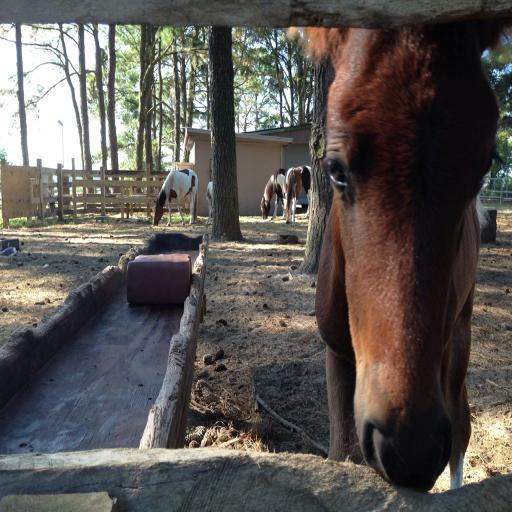horse: (280, 22, 512, 494), (152, 169, 199, 226), (260, 170, 286, 220), (283, 166, 302, 226), (296, 164, 312, 217), (202, 180, 214, 228)
